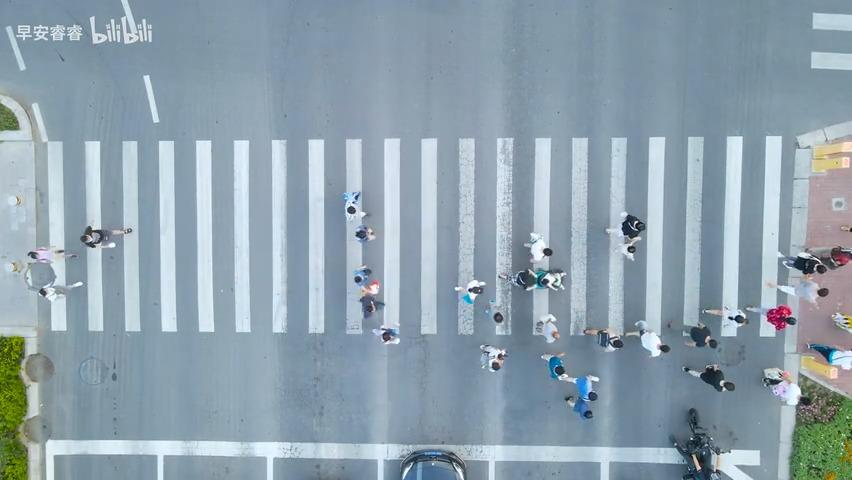Civilian: (11, 245, 83, 303), (605, 210, 645, 261), (557, 373, 599, 419), (761, 367, 809, 406), (765, 276, 828, 305), (498, 267, 566, 291), (681, 363, 734, 392), (630, 319, 670, 357), (745, 304, 797, 330), (777, 250, 827, 276), (805, 342, 851, 370), (80, 225, 132, 248), (805, 245, 851, 269), (701, 305, 748, 327), (583, 327, 623, 352), (358, 280, 385, 315), (683, 321, 717, 348), (26, 246, 78, 263), (523, 231, 552, 261), (479, 343, 508, 372), (453, 279, 486, 304), (534, 313, 560, 343), (540, 351, 567, 379), (619, 211, 645, 240), (342, 190, 366, 221), (564, 395, 593, 419), (371, 325, 400, 345), (484, 298, 504, 323), (831, 311, 851, 333), (353, 264, 371, 284), (354, 224, 375, 241), (839, 223, 851, 232)
